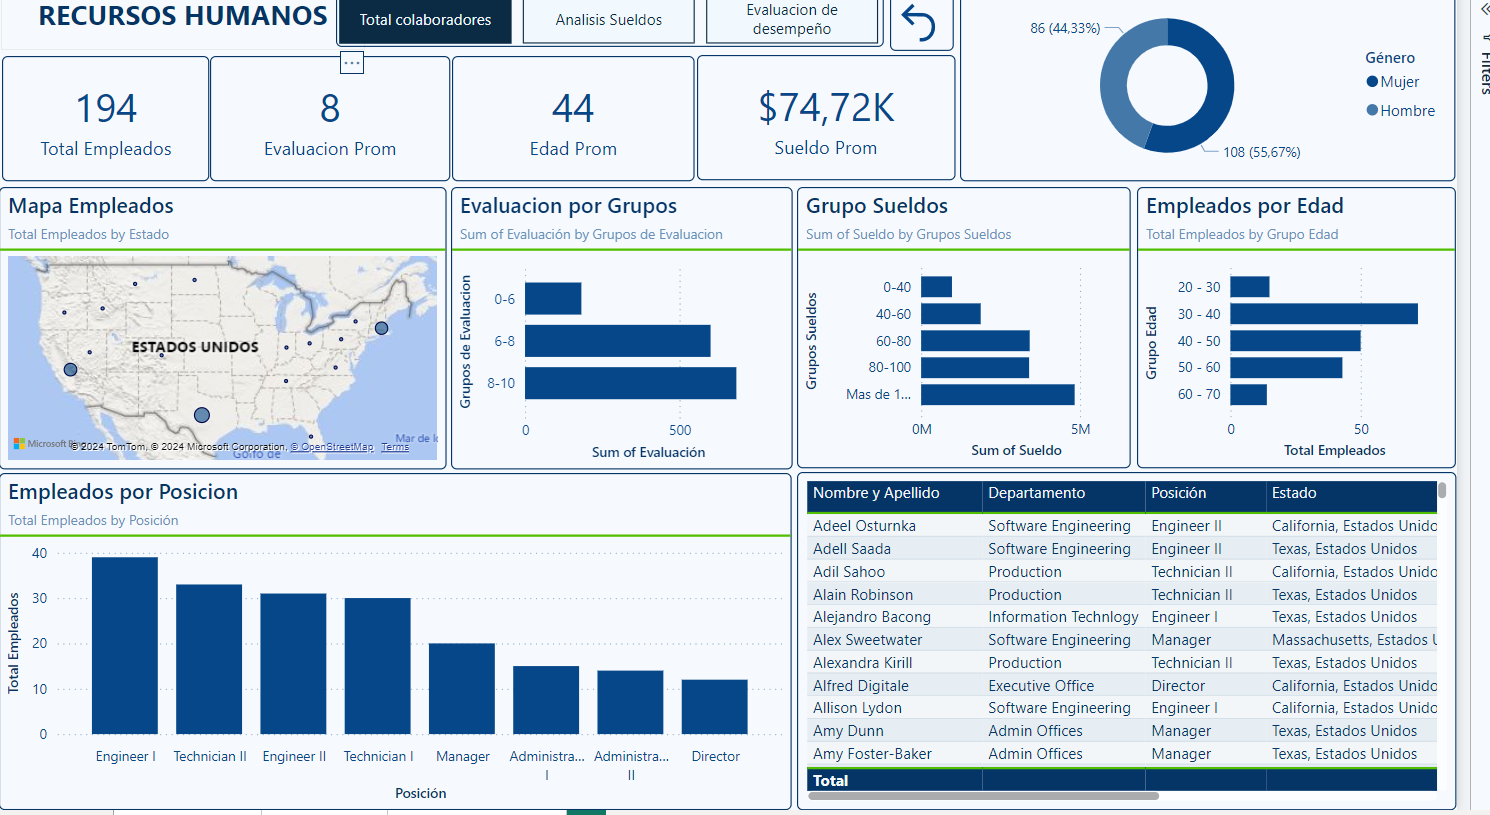

The page's visual inventory and layout, read from the dashboard file:
{"tool":"powerbi","page":{"name":"Total colaboradores","canvas":[1280,720],"ordinal":0},"visuals":[{"type":"tableEx","fields":{"Values":["Tabla Empleados.Nombre y Apellido","Tabla Empleados.Departamento","Tabla Empleados.Posición","Tabla Empleados.Estado","Tabla Empleados.Género","Tabla Evaluacion.Evaluacion Prom","Tabla Sueldo.Sueldo Prom","Tabla Empleados.Edad Prom"]},"box":[701.1,423.3,578.9,296.7],"z":0},{"type":"card","fields":{"Values":["Tabla Empleados.Total Empleados"]},"box":[2.2,57.8,182.2,110],"z":1000},{"type":"donutChart","fields":{"Category":["Tabla Empleados.Género"],"Y":["Tabla Empleados.Total Empleados"]},"box":[843.9,0,434.8,167.7],"z":2000},{"type":"columnChart","title":"Empleados por Posicion","fields":{"Y":["Tabla Empleados.Total Empleados"],"Category":["Tabla Empleados.Posición"]},"box":[0,423.8,696.2,296.2],"z":3000},{"type":"map","title":"Mapa Empleados","fields":{"Category":["Tabla Empleados.Estado"],"Size":["Tabla Empleados.Total Empleados"]},"box":[0,173.3,393.3,247.8],"z":4000},{"type":"actionButton","box":[782.2,3.3,55.6,50],"z":5000},{"type":"card","fields":{"Values":["Tabla Evaluacion.Evaluacion Prom"]},"box":[185.6,57.8,211.1,110],"z":6000},{"type":"card","fields":{"Values":["Tabla Sueldo.Sueldo Prom"]},"box":[612.5,57.5,226.7,110],"z":7000},{"type":"card","fields":{"Values":["Tabla Empleados.Edad Prom"]},"box":[398,57.8,213.3,110],"z":8000},{"type":"barChart","title":"Empleados por Edad","fields":{"Y":["Tabla Empleados.Total Empleados"],"Category":["Tabla Empleados.Grupo Edad "]},"box":[998.9,173.3,280,246.7],"z":9000},{"type":"barChart","title":"Grupo Sueldos","fields":{"Category":["Tabla Sueldo.Grupos Sueldos"],"Y":["Sum(Tabla Sueldo.Sueldo)"]},"box":[701.1,173.3,293.3,246.7],"z":10000},{"type":"barChart","title":"Evaluacion por Grupos","fields":{"Category":["Tabla Evaluacion.Grupos de Evaluacion"],"Y":["Sum(Tabla Evaluacion.Evaluación)"]},"box":[396.7,173.3,300,247.8],"z":11000},{"type":"textbox","box":[1.7,0,319.6,53],"z":12000},{"type":"pageNavigator","box":[295.7,0,481.4,50],"z":13000}]}

Visuals, with their boxes on the page's 1280x720 design canvas (x1, y1, x2, y2). These are canvas units, not pixel positions in the 1490x815 screenshot, which may show the page scaled, cropped or inside an application window:
tableEx - Tabla Empleados.Nombre y Apellido x Tabla Empleados.Departamento: 701,423,1280,720
card - Tabla Empleados.Total Empleados: 2,58,184,168
donutChart - Tabla Empleados.Género x Tabla Empleados.Total Empleados: 844,0,1279,168
"Empleados por Posicion" columnChart: 0,424,696,720
"Mapa Empleados" map: 0,173,393,421
actionButton: 782,3,838,53
card - Tabla Evaluacion.Evaluacion Prom: 186,58,397,168
card - Tabla Sueldo.Sueldo Prom: 612,58,839,168
card - Tabla Empleados.Edad Prom: 398,58,611,168
"Empleados por Edad" barChart: 999,173,1279,420
"Grupo Sueldos" barChart: 701,173,994,420
"Evaluacion por Grupos" barChart: 397,173,697,421
textbox: 2,0,321,53
pageNavigator: 296,0,777,50
